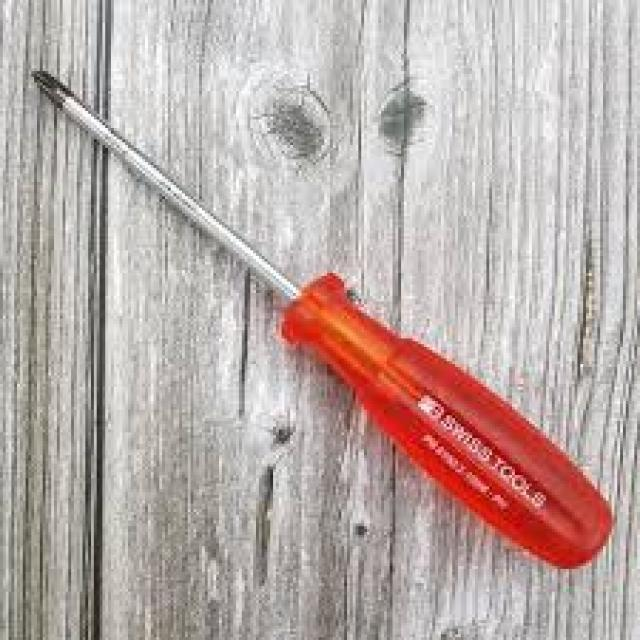screwdriver: (33, 67, 616, 570)
